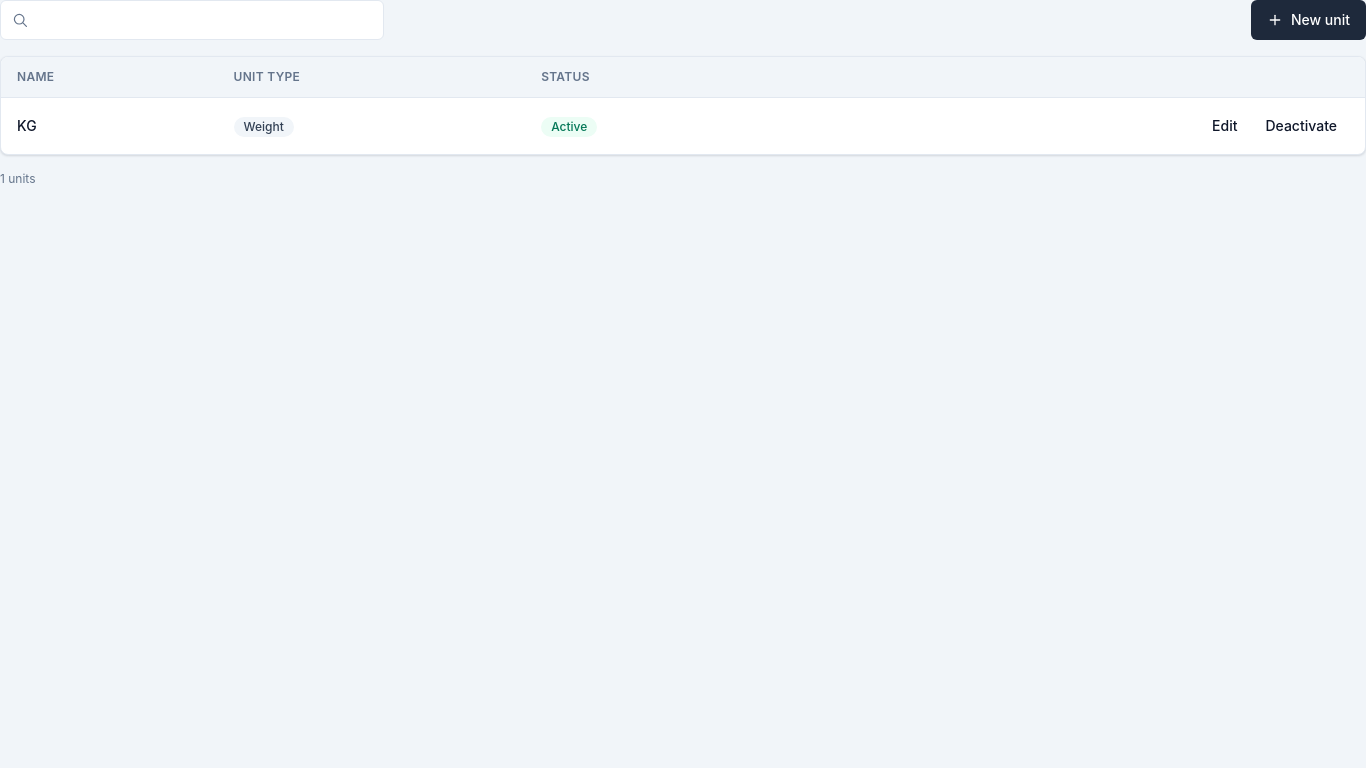
Scenario: UomMasterPanel › shows a field-level error and banner on a 409 duplicate name
This screenshot has width=1366, height=768.
Expected: the text "KG" is shown, [1,98,218,154]
Click the button "New unit" at (1308, 20), box [1251,0,1365,40]
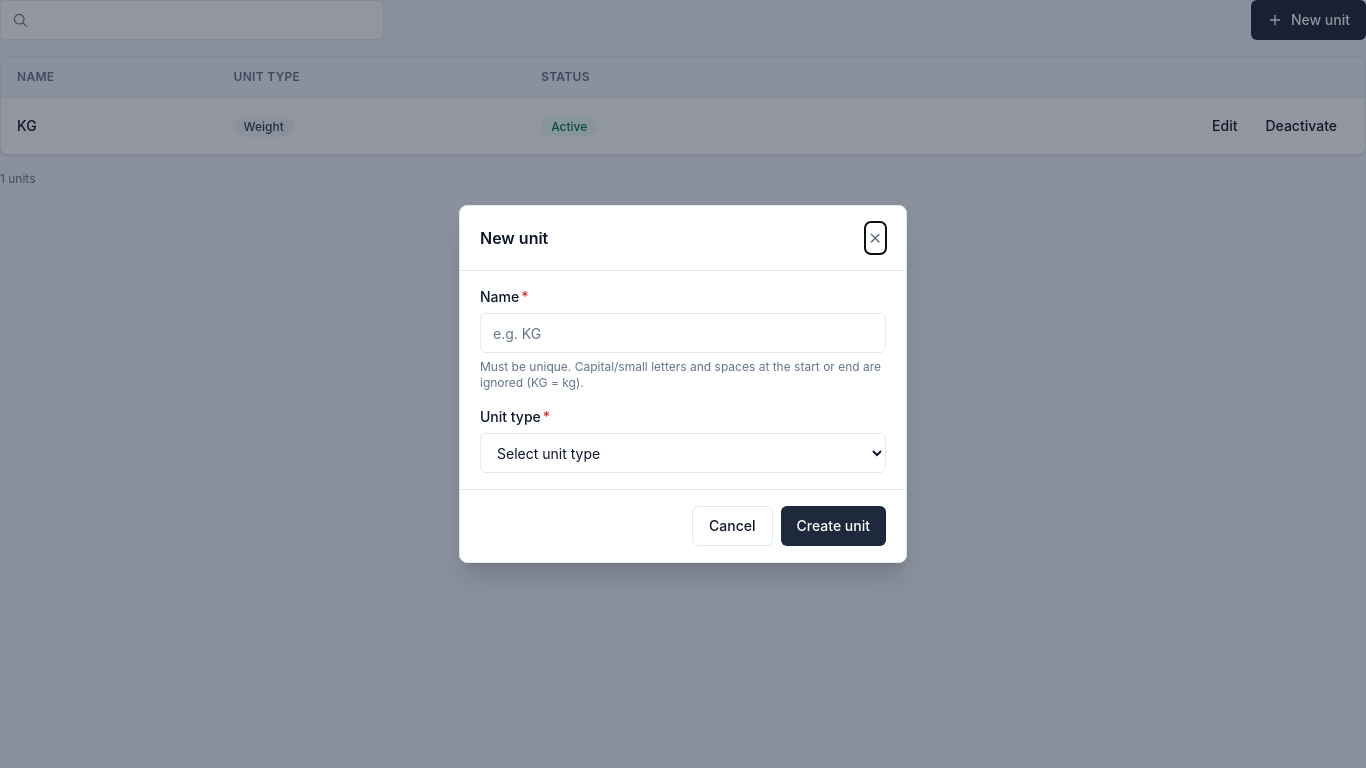
Type "kg" into the field labelled "Name*" at (683, 333), box [480,313,886,353]
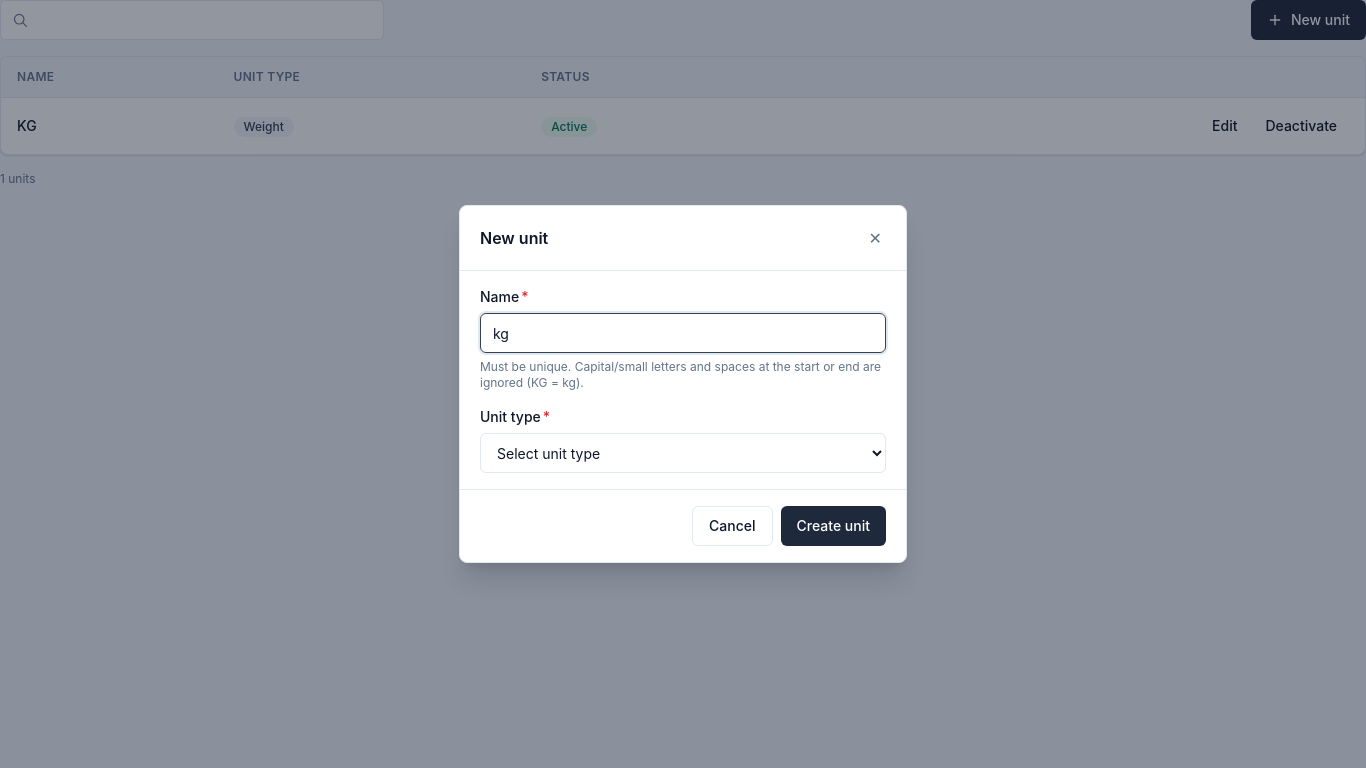
Select "Weight" in the dropdown labelled "Unit type*" at (683, 453), box [480,433,886,473]
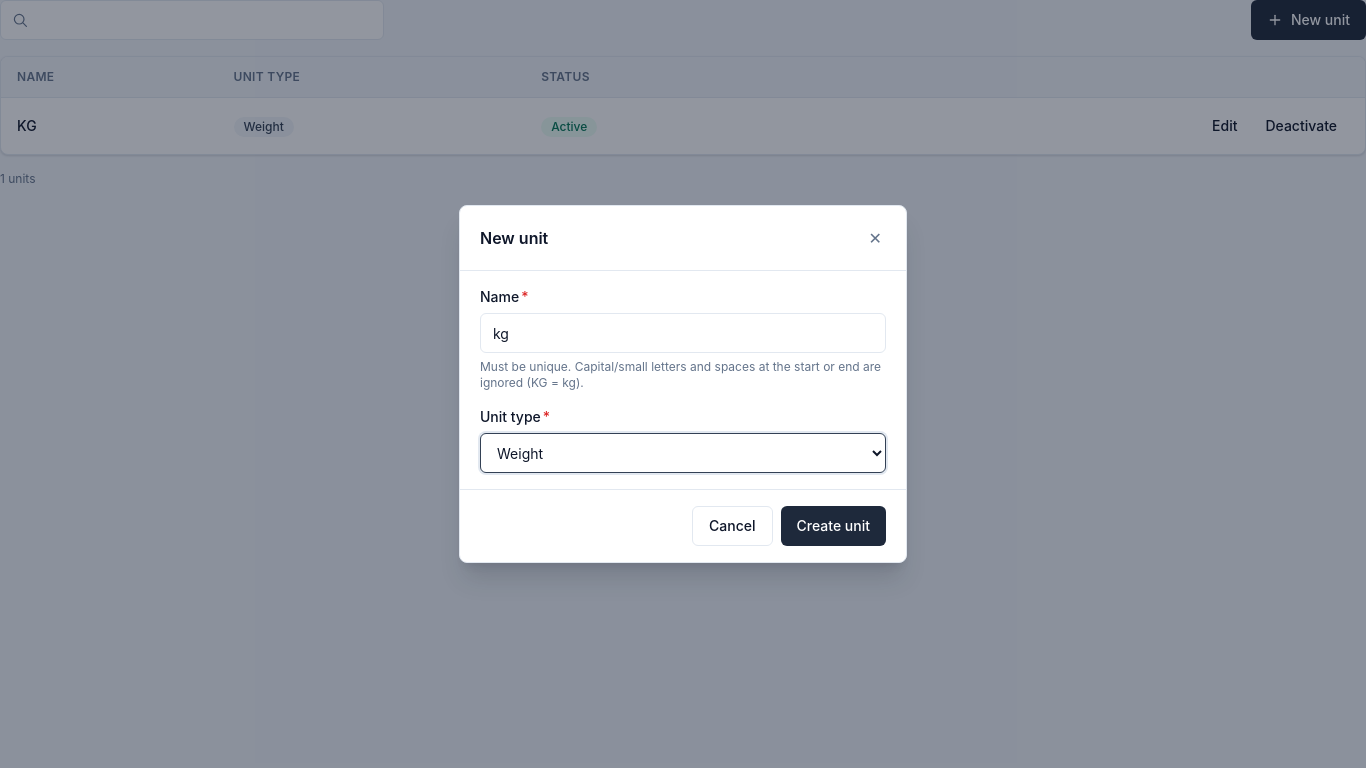
Click the button "Create unit" at (833, 526), box [780,506,886,546]
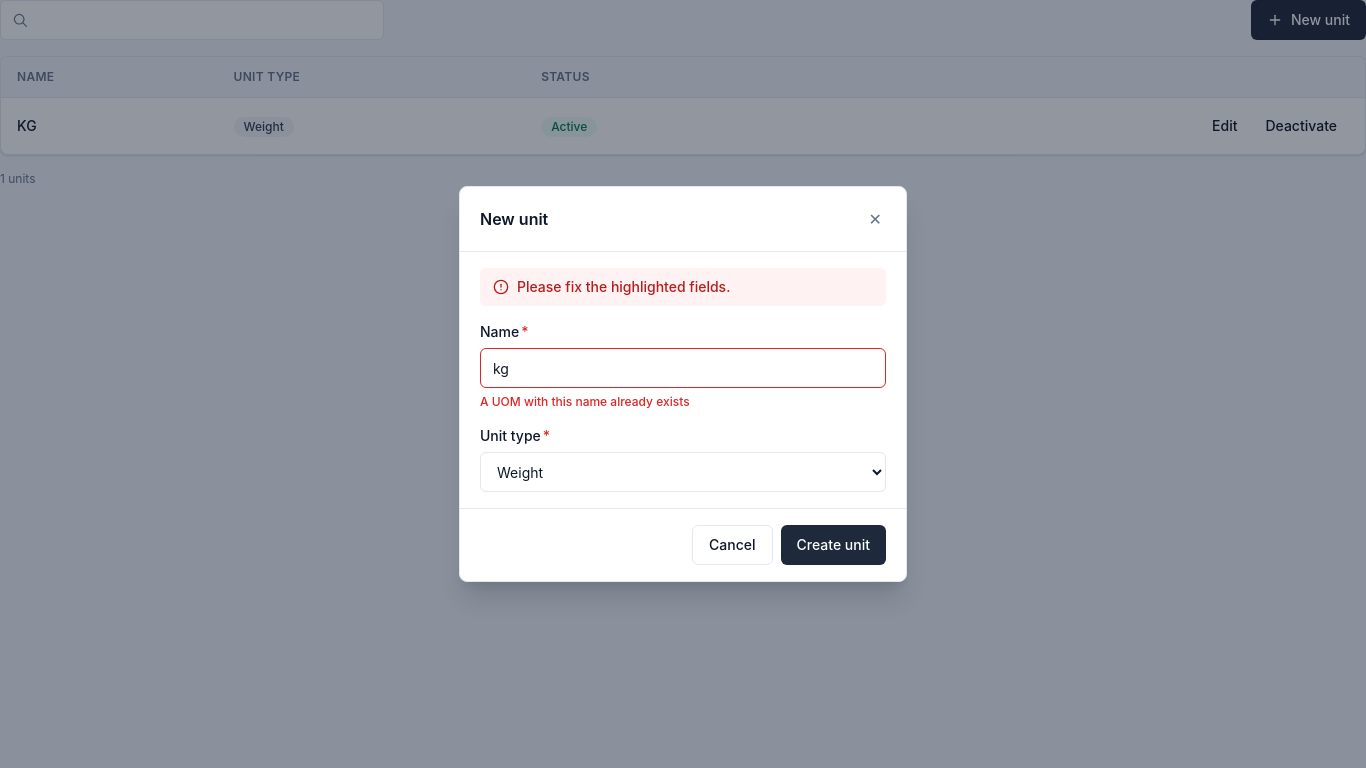
Result: the text "Please fix the highlighted fields." is shown at [480,268,886,306]
Result: the text "A UOM with this name already exists" is shown at [480,394,690,409]
